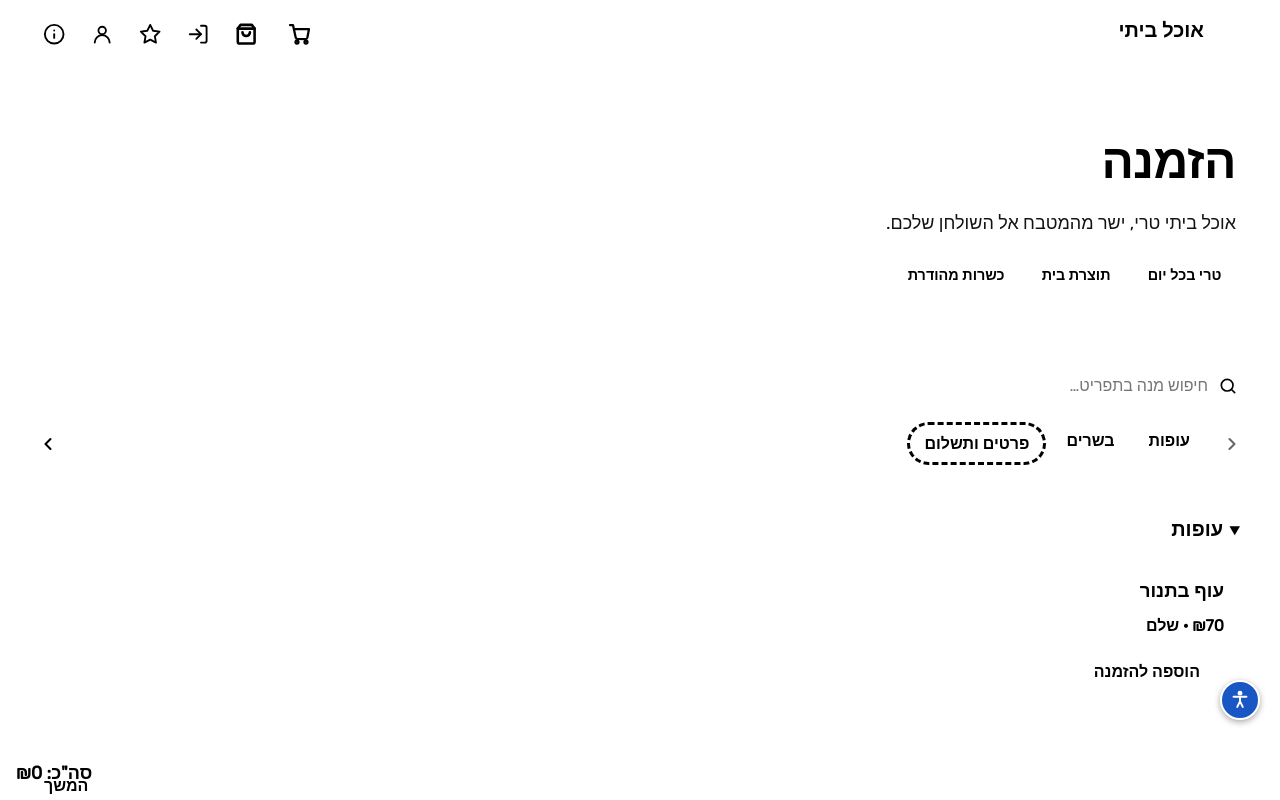
Scenario: Order flow by category steps › counts the picked dishes on the step and keeps them when paging
Step 1. Click the button "הוספה להזמנה" → (1147, 672), box [1074,649,1220,695]
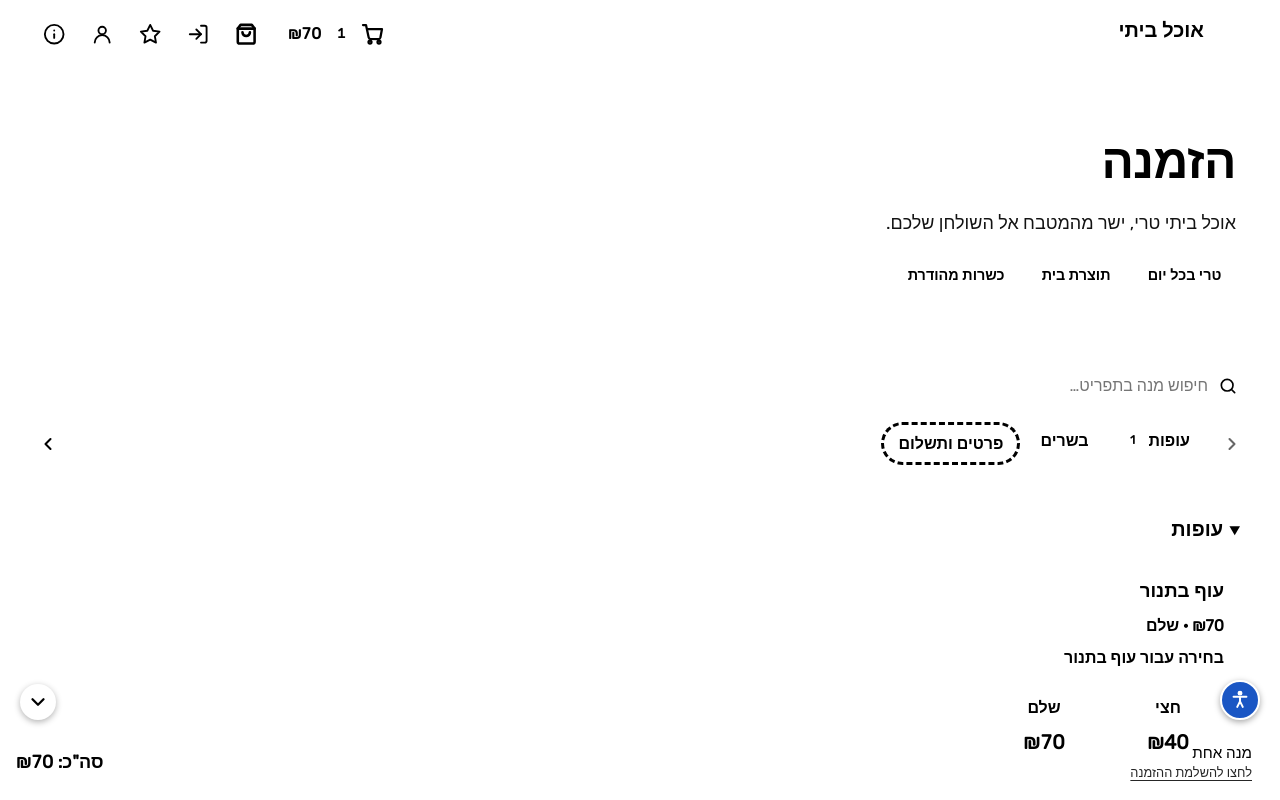
Expected: the text named "1 נבחרו בקטגוריה" is shown, [1130,433,1135,447]
Step 2. Click the button "בשרים" → (1065, 441), box [1026,422,1103,459]
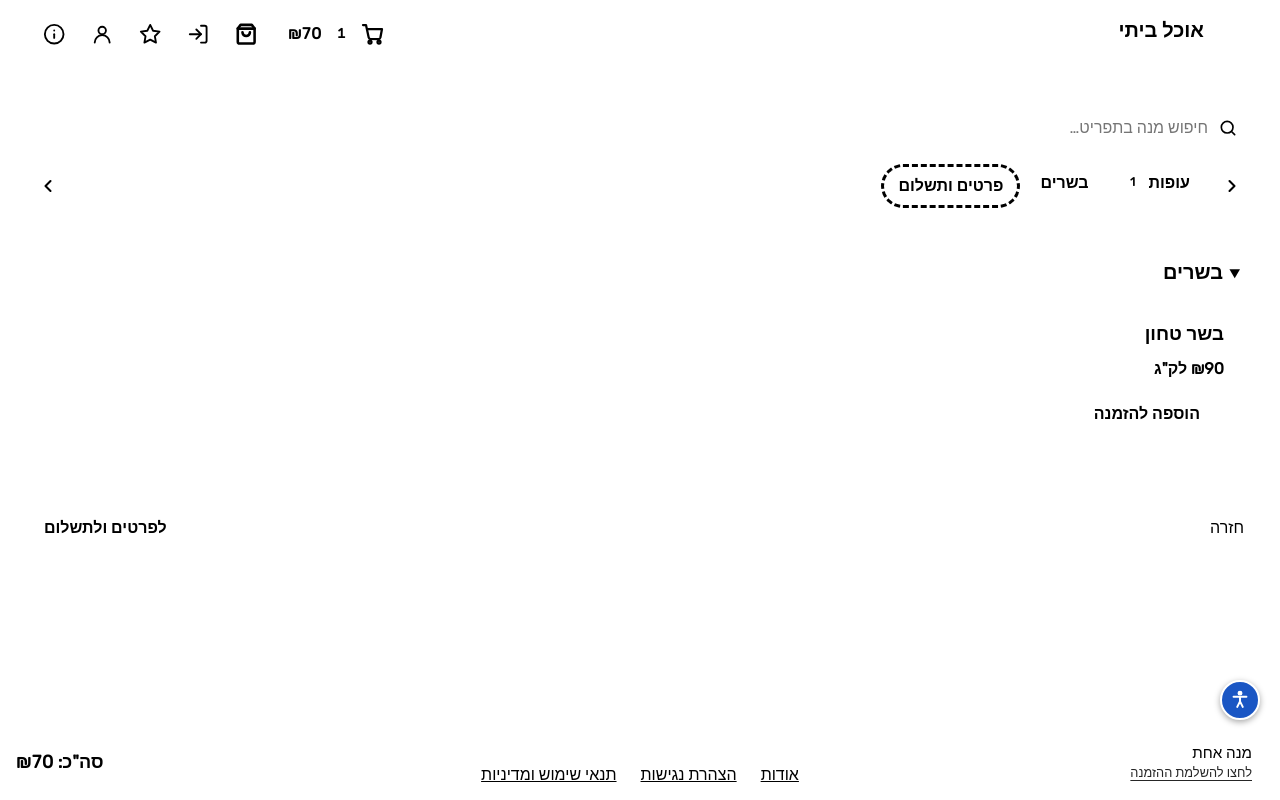
Step 3. Click the button "עופות 1" → (1156, 183), box [1108,164,1204,202]
(page scrolled)
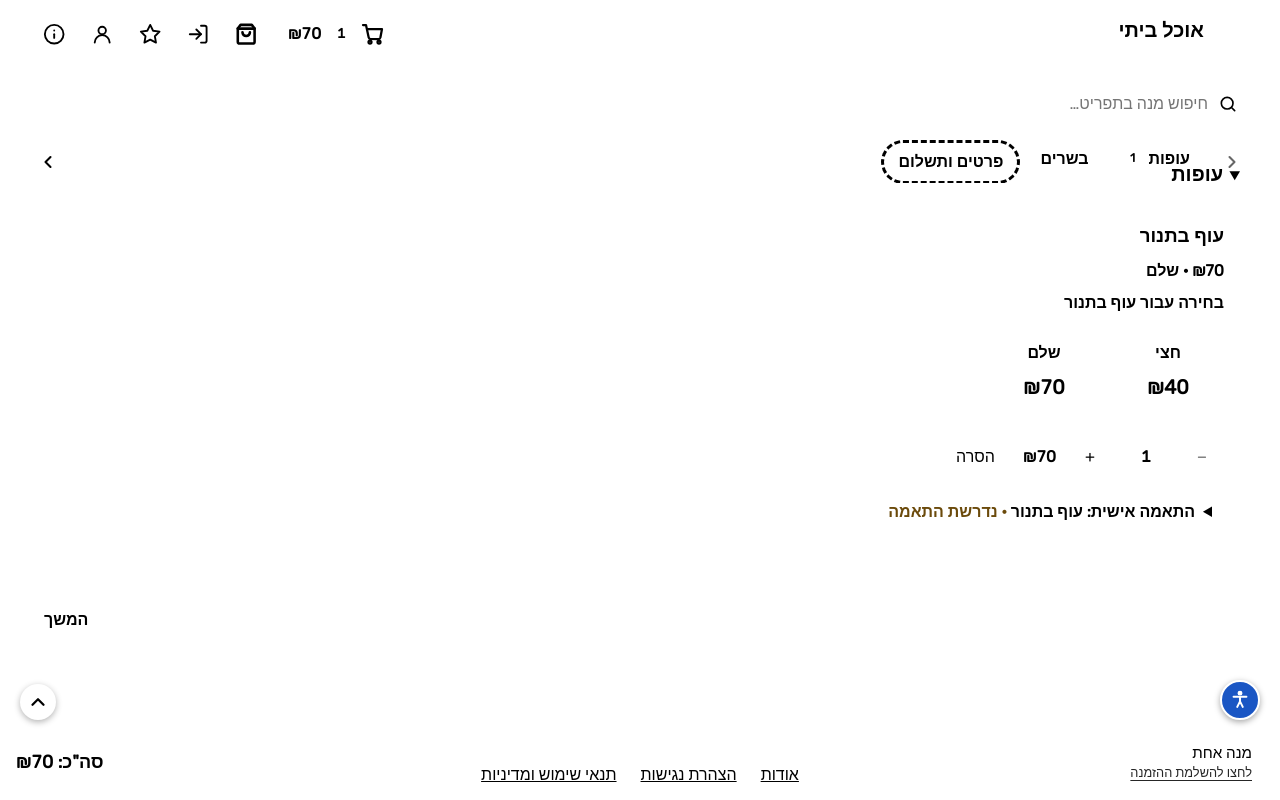
Expected: the radio button labelled "שלם ₪70" is checked, [1023,342,1065,399]
